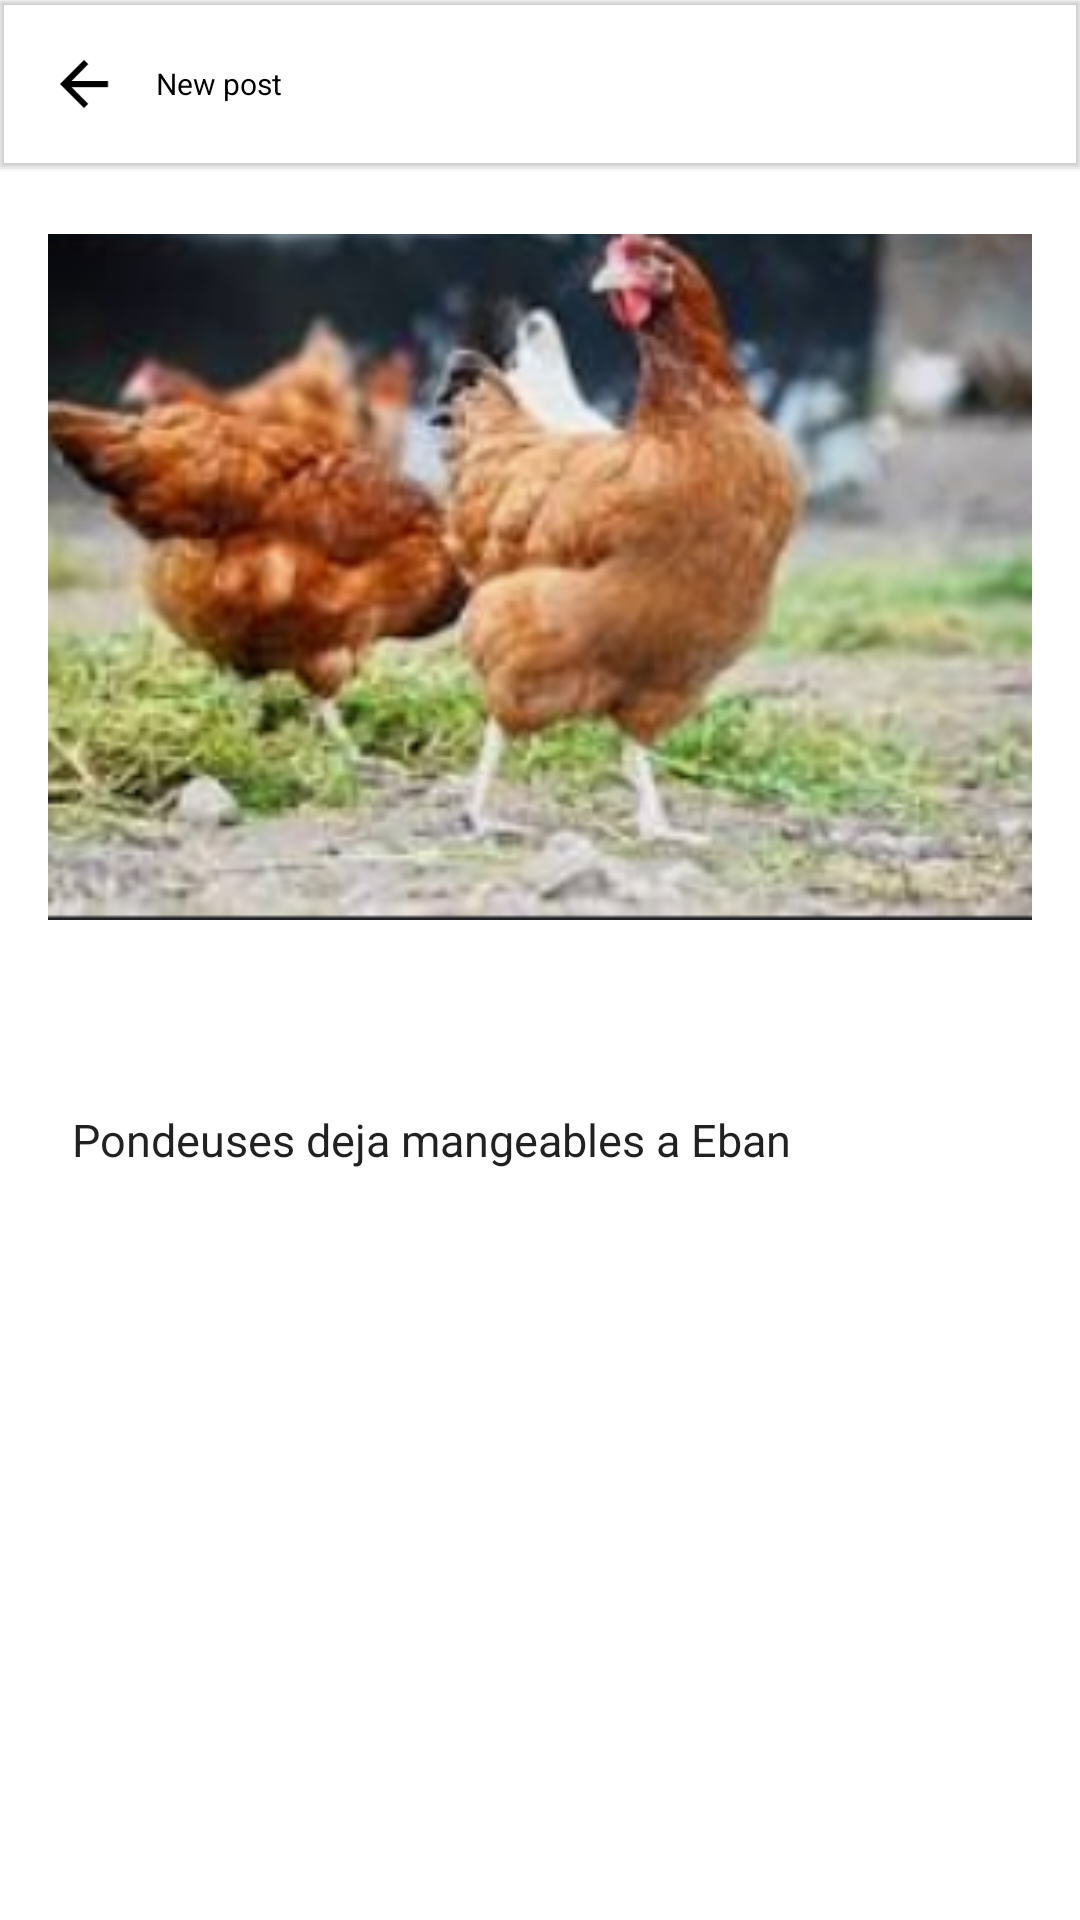

Icon bounding boxes for this 1080 x 1920 phone screenshot, format box(x1, y1, x2, y2):
arrow back: box(60, 60, 109, 108)
